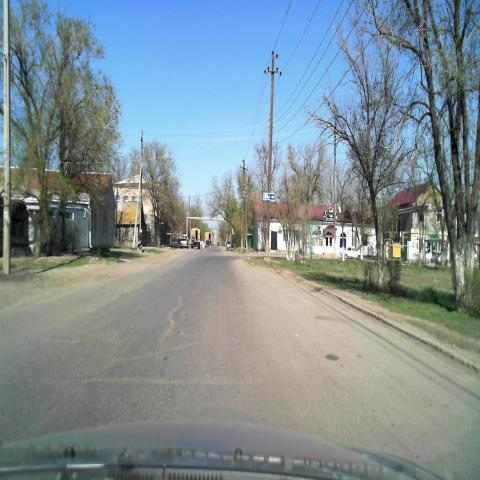6_15_2: (263, 192, 276, 202)
